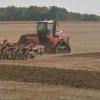Tractor: (18, 17, 73, 56)
